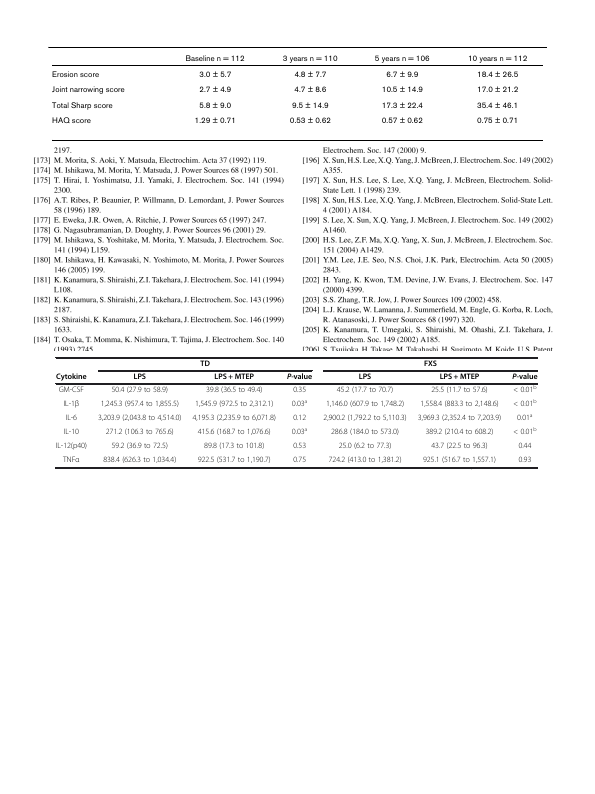borderless: (54, 356, 537, 467), (47, 45, 543, 140)
cell: (191, 414, 277, 424), (322, 414, 408, 424), (97, 414, 182, 424), (417, 414, 502, 424), (100, 400, 180, 410), (194, 400, 274, 410), (325, 400, 405, 410), (419, 400, 499, 410), (50, 86, 125, 96), (197, 428, 272, 438), (102, 456, 177, 466), (197, 456, 272, 466), (327, 456, 402, 466), (422, 456, 497, 466), (105, 428, 175, 438), (330, 428, 400, 438), (424, 428, 494, 438), (50, 101, 113, 111), (466, 54, 528, 64), (203, 442, 265, 452), (184, 54, 245, 64), (110, 386, 169, 396), (430, 386, 489, 396), (110, 442, 169, 452), (430, 442, 489, 452), (205, 386, 263, 396), (336, 386, 394, 396), (281, 54, 338, 64), (373, 54, 430, 64), (338, 442, 392, 452), (50, 70, 99, 80), (475, 70, 519, 80), (475, 86, 519, 96), (475, 101, 519, 111), (475, 117, 519, 127), (380, 86, 423, 96), (380, 101, 423, 111), (193, 117, 236, 127), (288, 117, 331, 127), (380, 117, 423, 127), (213, 373, 255, 383), (50, 117, 91, 127), (439, 373, 480, 383), (290, 101, 329, 111), (198, 70, 232, 80), (293, 70, 327, 80), (385, 70, 419, 80), (198, 86, 232, 96), (293, 86, 327, 96), (198, 101, 232, 111), (55, 442, 88, 452), (55, 373, 87, 383), (512, 385, 537, 396), (512, 399, 537, 410), (512, 427, 537, 438), (286, 373, 313, 383), (511, 373, 538, 383), (58, 386, 85, 396), (291, 399, 308, 410), (516, 413, 533, 424), (291, 427, 308, 438), (62, 400, 80, 410), (62, 456, 80, 466), (63, 428, 80, 438), (132, 373, 147, 383), (292, 386, 307, 396), (292, 414, 307, 424), (292, 442, 307, 452), (517, 442, 532, 452), (292, 456, 307, 466), (517, 456, 532, 466), (358, 373, 372, 383), (64, 414, 78, 424), (423, 360, 438, 369), (199, 360, 211, 369)
